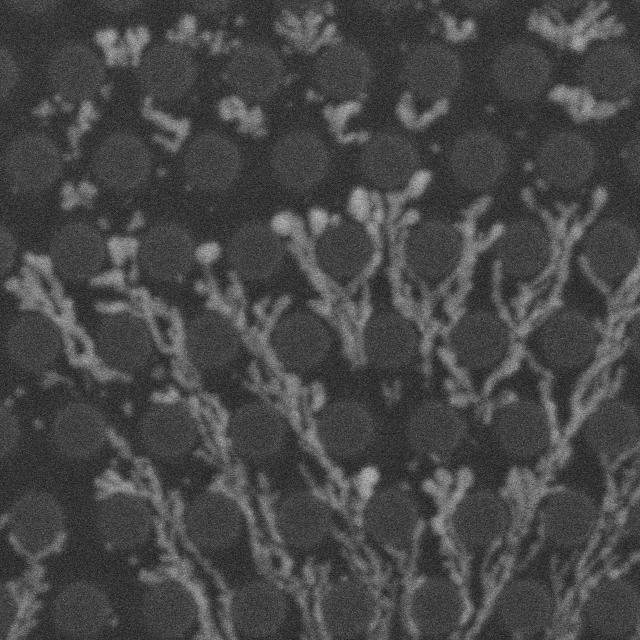Dendrite: (197, 260, 351, 496), (96, 432, 254, 640), (475, 187, 606, 421), (538, 231, 640, 498), (219, 461, 344, 640), (396, 199, 501, 405), (129, 288, 235, 470), (445, 469, 547, 640), (91, 237, 201, 391), (313, 467, 408, 640), (7, 256, 128, 380), (272, 207, 359, 370), (538, 506, 639, 637), (346, 172, 430, 303), (424, 469, 473, 628), (0, 526, 65, 640), (489, 471, 552, 586), (527, 0, 624, 52), (275, 0, 339, 54), (549, 85, 630, 124), (169, 16, 240, 55), (140, 98, 190, 151), (96, 25, 150, 67), (396, 90, 448, 132), (528, 357, 558, 426), (219, 95, 267, 138), (66, 102, 99, 158), (322, 101, 362, 142), (30, 95, 71, 122), (439, 12, 474, 43), (61, 182, 95, 211), (195, 241, 219, 262), (554, 436, 565, 448)
